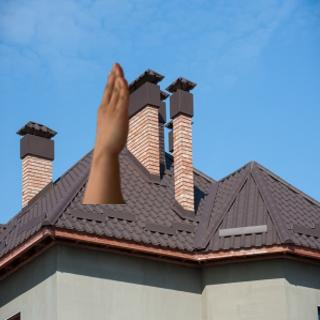RIGHT: (88, 57, 136, 163)
